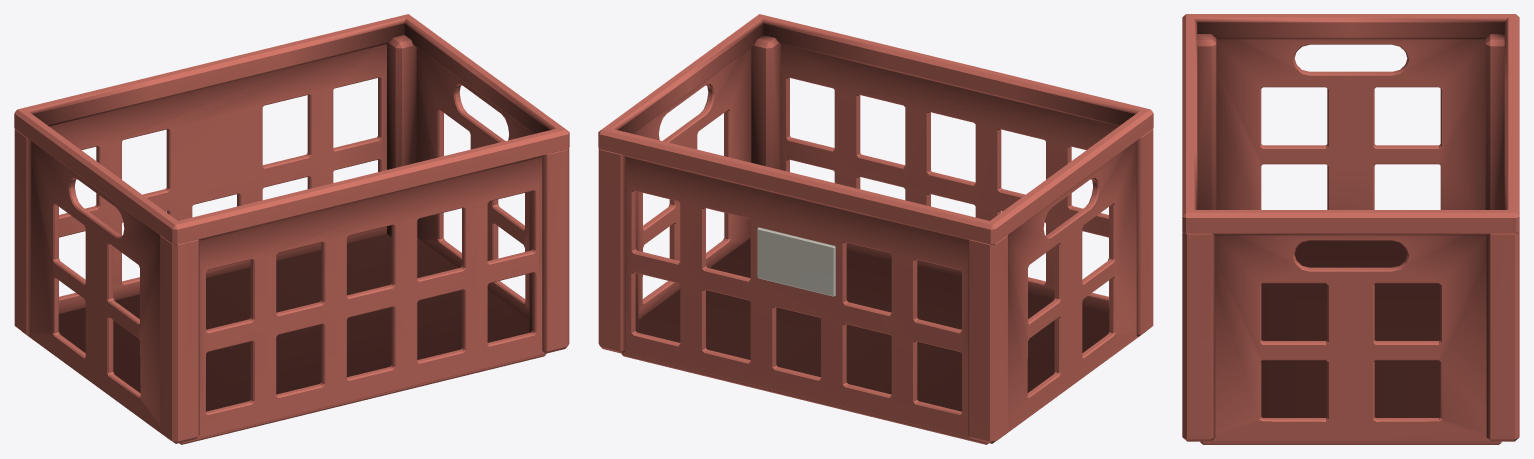
File: junk_crate_plastic.glb
The picture shows the model from 3 angles, left to right: view 1: azimuth 30°, elevation 25°; view 2: azimuth 150°, elevation 25°; view 3: azimuth 270°, elevation 25°; orthographic projection. The views are drawn at different scales.
Parts seen in each view (by area): view 1: PART; view 2: PART; view 3: PART.
Boxes of the visible parts, x1,y1,x2,y2 form: PART: (14, 14, 569, 444); PART: (598, 14, 1153, 444); PART: (1182, 14, 1519, 444).
Size of the model in its own units: 0.508 by 0.28 by 0.358.
